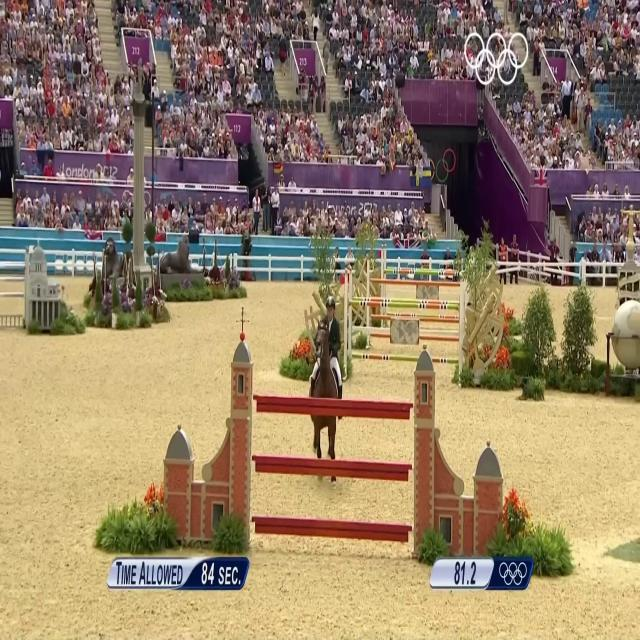Horse Rider: (313, 275, 344, 398)
Horse Running: (304, 333, 349, 481)
